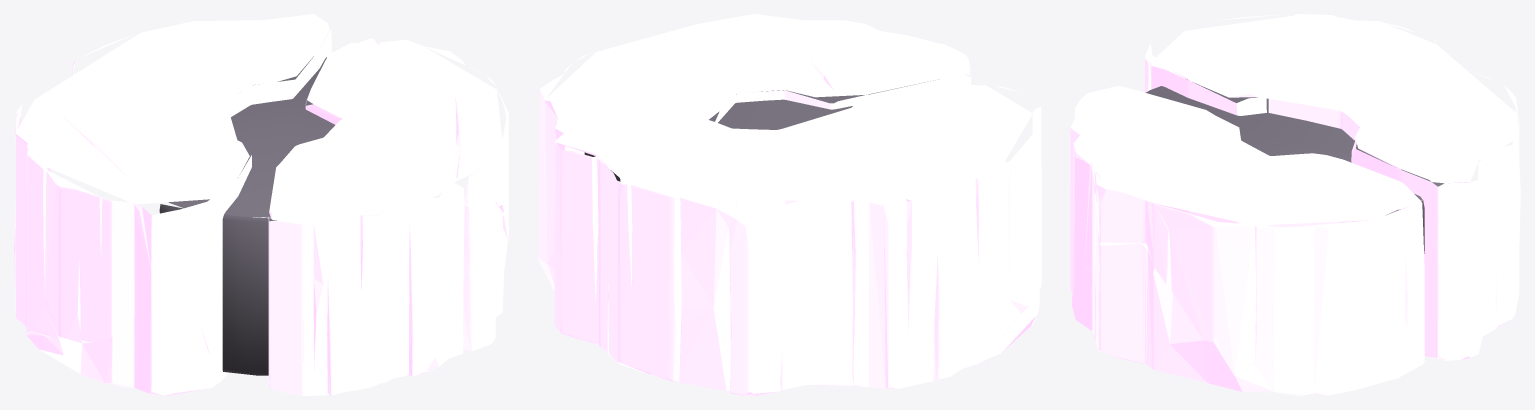
The model's file is lb_rock_crystal.glb.
The picture shows the model from 3 angles, left to right: view 1: azimuth 30°, elevation 25°; view 2: azimuth 150°, elevation 25°; view 3: azimuth 270°, elevation 25°; orthographic projection. The views are drawn at different scales.
Parts seen in each view (by area): view 1: geometry_0, geometry_1; view 2: geometry_0, geometry_1; view 3: geometry_0, geometry_1.
Part boxes in pixels (<box>): geometry_0: <box>14,14,508,395</box>; geometry_1: <box>159,56,341,375</box>; geometry_0: <box>537,14,1041,395</box>; geometry_1: <box>584,79,938,181</box>; geometry_0: <box>1070,14,1520,395</box>; geometry_1: <box>1145,79,1444,253</box>.
Size of the model in its own units: 8.87 by 3.6 by 8.18.
